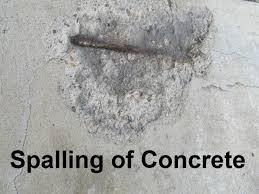exposed_rebar: (70, 34, 154, 53)
spalling: (48, 0, 215, 144)
